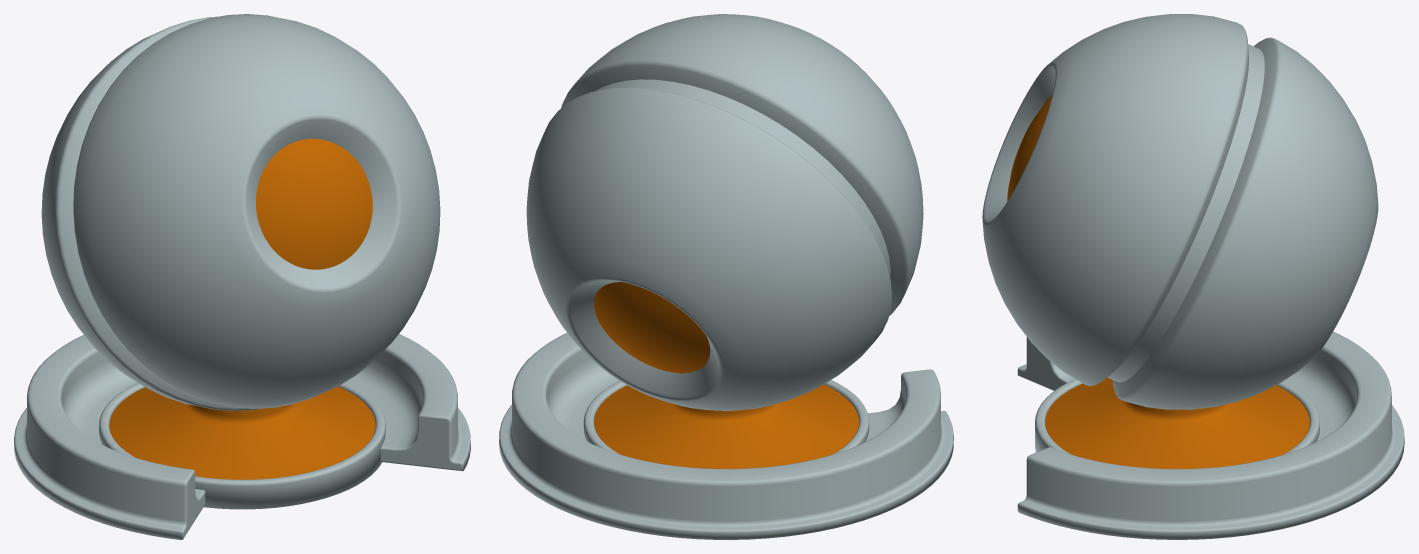
The picture shows the model from 3 angles, left to right: view 1: azimuth 30°, elevation 25°; view 2: azimuth 150°, elevation 25°; view 3: azimuth 270°, elevation 25°; orthographic projection.
Visible parts, largest first — view 1: Material_Sphere.002; view 2: Material_Sphere.002; view 3: Material_Sphere.002.
Boxes of the visible parts, left/top/right/bottom form: Material_Sphere.002: left=14, top=14, right=470, bottom=539; Material_Sphere.002: left=499, top=14, right=953, bottom=539; Material_Sphere.002: left=982, top=14, right=1404, bottom=539.
Size of the model in its own units: 134 by 135 by 125.
